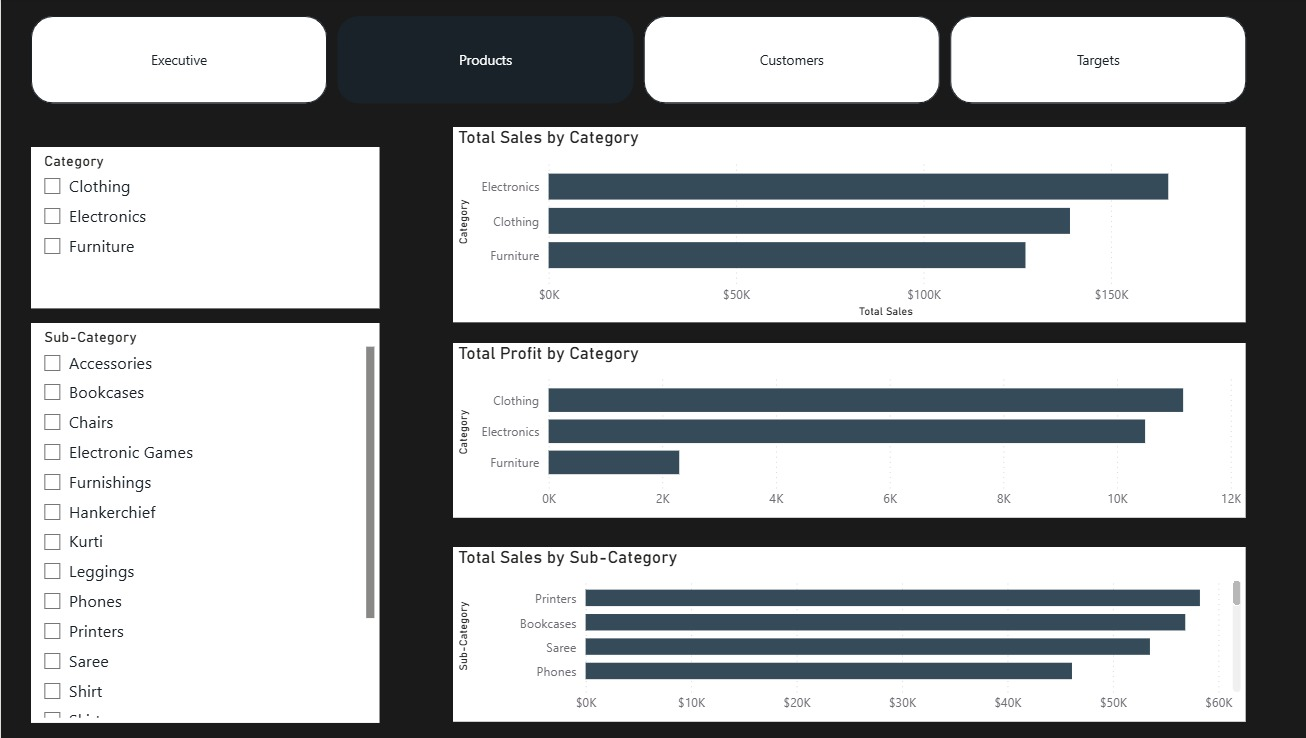

What the dashboard file says about the page in this screenshot:
{"tool":"powerbi","page":{"name":"Products","canvas":[1280,720],"ordinal":1},"visuals":[{"type":"clusteredBarChart","fields":{"Y":["Calendar.Total Sales"],"Category":["Category.Category"]},"box":[440,125.7,771.4,190],"z":0},{"type":"clusteredBarChart","fields":{"Category":["Category.Category"],"Y":["Calendar.Total Profit"]},"box":[440,335.7,771.4,170],"z":1000},{"type":"clusteredBarChart","fields":{"Y":["Calendar.Total Sales"],"Category":["Order Details.Sub-Category","Category.Category"]},"box":[440,534.3,771.4,170],"z":2000},{"type":"slicer","fields":{"Values":["Sales target.Category"]},"box":[28.7,145.3,339.1,157],"z":3000},{"type":"slicer","fields":{"Values":["Order Details.Sub-Category"]},"box":[28.7,315.7,339.1,389.3],"z":4000},{"type":"pageNavigator","box":[28.7,17,1183.1,85.2],"z":5000}]}

Visuals, with their boxes in screenshot pixels (x1, y1, x2, y2), scaled from the page's 1280x720 canvas onto the 1306x738 screenshot:
clusteredBarChart - Calendar.Total Sales x Category.Category: left=449, top=129, right=1236, bottom=324
clusteredBarChart - Category.Category x Calendar.Total Profit: left=449, top=344, right=1236, bottom=518
clusteredBarChart - Calendar.Total Sales x Order Details.Sub-Category: left=449, top=548, right=1236, bottom=722
slicer - Sales target.Category: left=29, top=149, right=375, bottom=310
slicer - Order Details.Sub-Category: left=29, top=324, right=375, bottom=723
pageNavigator: left=29, top=17, right=1236, bottom=105
